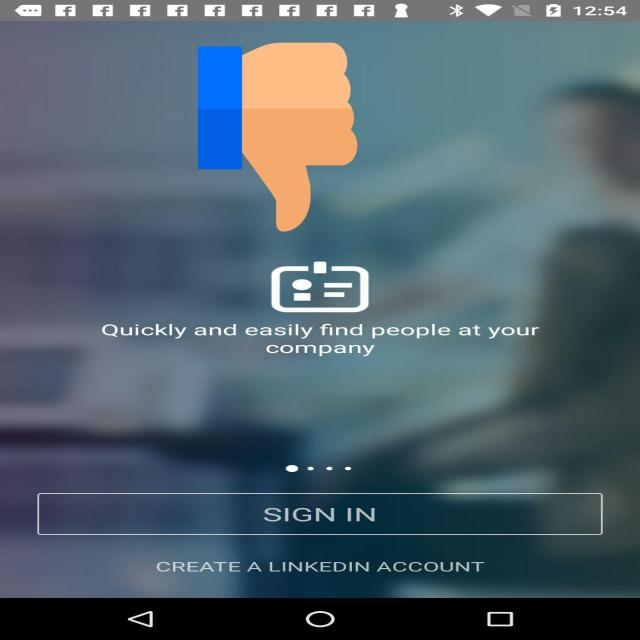obstruction: (198, 38, 357, 236)
